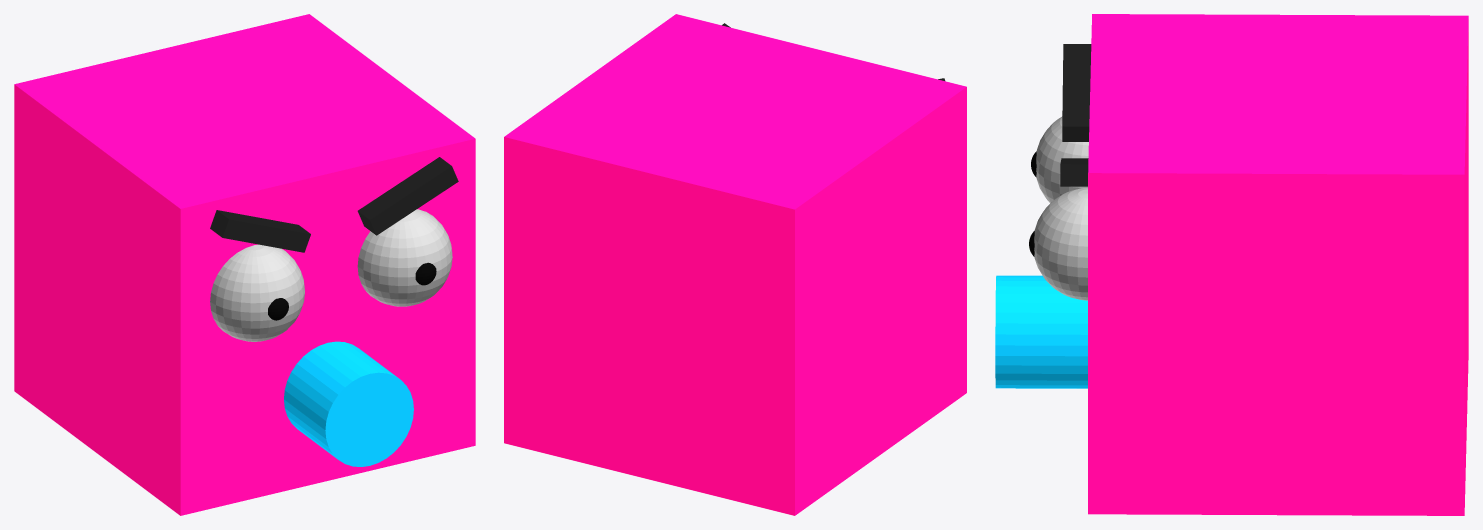
File: shooter.glb
3 renders of one model, left to right at view 1: azimuth 30°, elevation 25°; view 2: azimuth 150°, elevation 25°; view 3: azimuth 270°, elevation 25°, orthographic. The views are drawn at different scales.
Visible parts, largest first — view 1: Cube, Cylinder, ojo_der, ojo_izq, ceja_izq, ceja_der; view 2: Cube; view 3: Cube, Cylinder, ojo_izq, ceja_der, ojo_der, ceja_izq.
Part boxes in pixels (x1,y1,x2,y2): Cube: (14, 14, 475, 515); Cylinder: (284, 341, 413, 466); ojo_der: (210, 244, 304, 341); ojo_izq: (357, 209, 452, 306); ceja_izq: (357, 157, 458, 235); ceja_der: (210, 210, 310, 252); Cube: (504, 14, 966, 515); Cube: (1088, 14, 1468, 515); Cylinder: (995, 275, 1087, 388); ojo_izq: (1034, 188, 1087, 300); ceja_der: (1062, 44, 1091, 141); ojo_der: (1036, 116, 1088, 203); ceja_izq: (1060, 158, 1088, 186).
Bounding box in the file's own units: 10.14 × 10.03 × 12.61.
